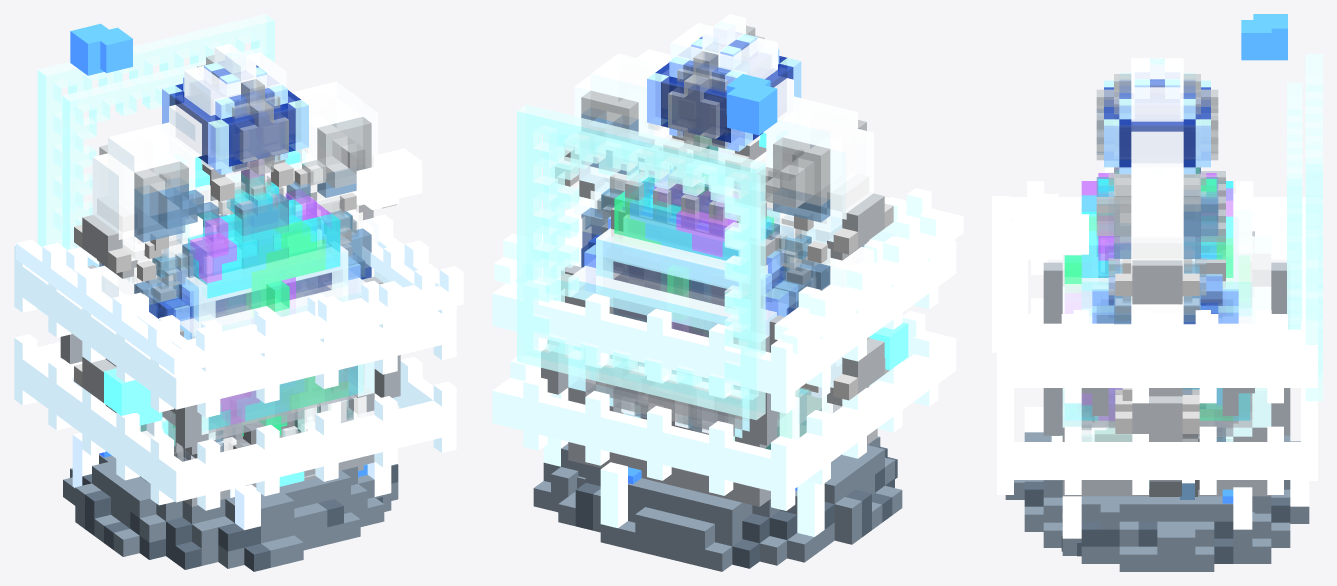
File: Gemas_Zona3.fbx
3 renders of one model, left to right at view 1: azimuth 30°, elevation 25°; view 2: azimuth 150°, elevation 25°; view 3: azimuth 270°, elevation 25°, orthographic. The views are drawn at different scales.
Parts seen in each view (by area): view 1: EstrelladeEscarcha__Anillo, CopoEterno__Faceta, AuroraBoreal__Anillo, CopoEterno__Anillo, PiedraLuna__Roca, CopoEterno__Halo, CopoEterno__Blanco, CopoEterno__AzulClaro, AuroraBoreal__Celeste, PiedraLuna__Faceta, TronodeHielo__Halo, AuroraBoreal__Verde (+34 smaller); view 2: CopoEterno__Halo, EstrelladeEscarcha__Anillo, AuroraBoreal__Anillo, CopoEterno__Faceta, PiedraLuna__Roca, TronodeHielo__Halo, PiedraLuna__Faceta, CopoEterno__Blanco, CopoEterno__Anillo, CopoEterno__AzulClaro, PiedraLuna__Oro, EstrelladeEscarcha__Plata (+31 smaller); view 3: AuroraBoreal__Anillo, EstrelladeEscarcha__Anillo, PiedraLuna__Roca, CopoEterno__Anillo, CopoEterno__Faceta, PiedraLuna__Faceta, PiedraLuna__Oro, CopoEterno__Blanco, CopoEterno__Halo, TronodeHielo__Anillo, EstrelladeEscarcha__Plata, CopoEterno__AzulClaro (+24 smaller).
Part boxes in pixels (x1=…): EstrelladeEscarcha__Anillo: x1=14, y1=334, x2=456, y2=510; CopoEterno__Faceta: x1=92, y1=43, x2=378, y2=298; AuroraBoreal__Anillo: x1=14, y1=244, x2=456, y2=417; CopoEterno__Anillo: x1=16, y1=214, x2=463, y2=374; PiedraLuna__Roca: x1=63, y1=454, x2=398, y2=568; CopoEterno__Halo: x1=37, y1=14, x2=274, y2=315; CopoEterno__Blanco: x1=99, y1=55, x2=371, y2=200; CopoEterno__AzulClaro: x1=99, y1=124, x2=371, y2=304; AuroraBoreal__Celeste: x1=188, y1=174, x2=362, y2=430; PiedraLuna__Faceta: x1=87, y1=211, x2=374, y2=446; TronodeHielo__Halo: x1=62, y1=47, x2=269, y2=250; AuroraBoreal__Verde: x1=173, y1=221, x2=348, y2=436; CopoEterno__Halo: x1=517, y1=104, x2=765, y2=420; EstrelladeEscarcha__Anillo: x1=492, y1=311, x2=956, y2=510; AuroraBoreal__Anillo: x1=492, y1=231, x2=956, y2=413; CopoEterno__Faceta: x1=574, y1=14, x2=873, y2=288; PiedraLuna__Roca: x1=533, y1=436, x2=902, y2=571; TronodeHielo__Halo: x1=543, y1=124, x2=759, y2=399; PiedraLuna__Faceta: x1=568, y1=195, x2=862, y2=440; CopoEterno__Blanco: x1=581, y1=25, x2=866, y2=208; CopoEterno__Anillo: x1=494, y1=185, x2=963, y2=354; CopoEterno__AzulClaro: x1=581, y1=107, x2=866, y2=308; PiedraLuna__Oro: x1=541, y1=290, x2=841, y2=506; EstrelladeEscarcha__Plata: x1=564, y1=135, x2=884, y2=406; AuroraBoreal__Anillo: x1=997, y1=211, x2=1317, y2=403; EstrelladeEscarcha__Anillo: x1=997, y1=298, x2=1317, y2=494; PiedraLuna__Roca: x1=1005, y1=432, x2=1309, y2=571; CopoEterno__Anillo: x1=992, y1=181, x2=1305, y2=352; CopoEterno__Faceta: x1=1131, y1=58, x2=1183, y2=329; PiedraLuna__Faceta: x1=1062, y1=201, x2=1271, y2=441; PiedraLuna__Oro: x1=1043, y1=254, x2=1290, y2=496; CopoEterno__Blanco: x1=1096, y1=74, x2=1218, y2=243; CopoEterno__Halo: x1=1305, y1=54, x2=1322, y2=401; TronodeHielo__Anillo: x1=1012, y1=194, x2=1286, y2=329; EstrelladeEscarcha__Plata: x1=1132, y1=238, x2=1182, y2=441; CopoEterno__AzulClaro: x1=1096, y1=109, x2=1218, y2=324.
Size of the model in its own units: 0.95 by 1.4 by 0.95.
